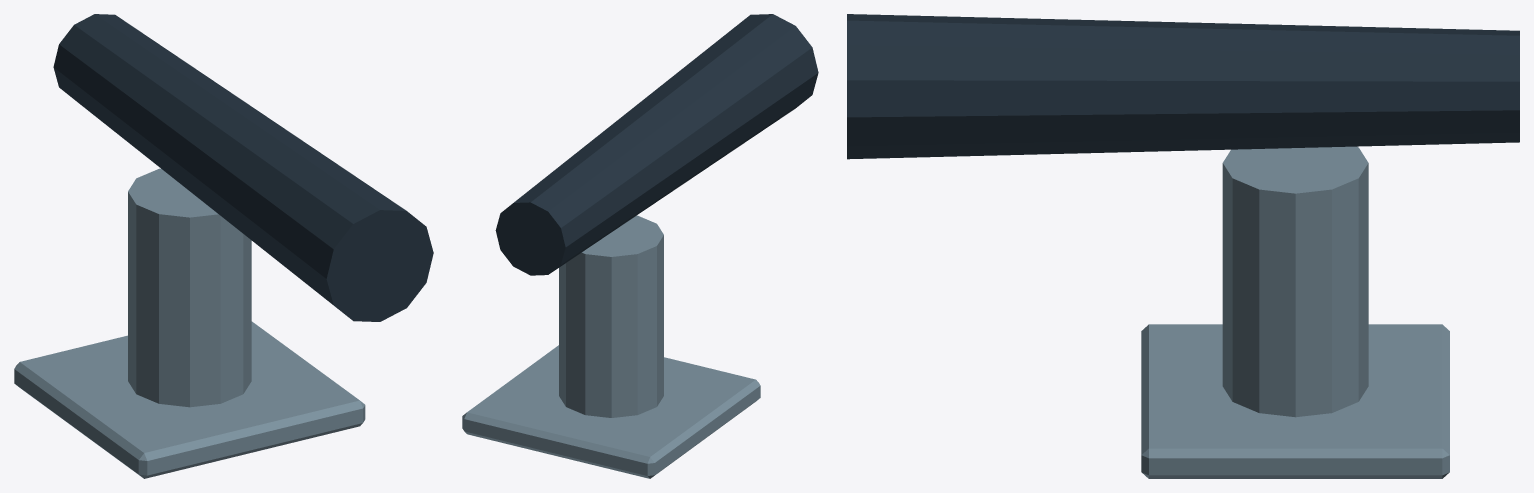
Rendered from equipment-swivel-gun.lod0.glb.
3 views of the same model, side by side, from view 1: azimuth 30°, elevation 25°; view 2: azimuth 150°, elevation 25°; view 3: azimuth 270°, elevation 25° (orthographic). The views are drawn at different scales.
Visible parts, largest first — view 1: equipment-swivel-gun__body, equipment-swivel-gun__barrel; view 2: equipment-swivel-gun__body, equipment-swivel-gun__barrel; view 3: equipment-swivel-gun__barrel, equipment-swivel-gun__body.
Part boxes in pixels (<box>): equipment-swivel-gun__body: <box>14,168,365,478</box>; equipment-swivel-gun__barrel: <box>53,14,433,321</box>; equipment-swivel-gun__body: <box>462,215,760,478</box>; equipment-swivel-gun__barrel: <box>495,14,818,275</box>; equipment-swivel-gun__barrel: <box>847,14,1519,159</box>; equipment-swivel-gun__body: <box>1141,146,1449,478</box>.
Bounding box in the file's own units: 0.55 × 0.78 × 1.2.
